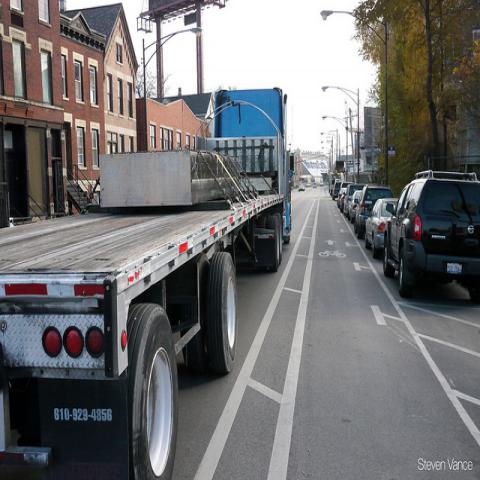car: (381, 170, 479, 304), (354, 183, 394, 239), (365, 198, 396, 256), (343, 184, 366, 218), (347, 190, 362, 223), (338, 182, 353, 210), (332, 180, 342, 200), (312, 183, 317, 190)
truck: (0, 86, 296, 479)
